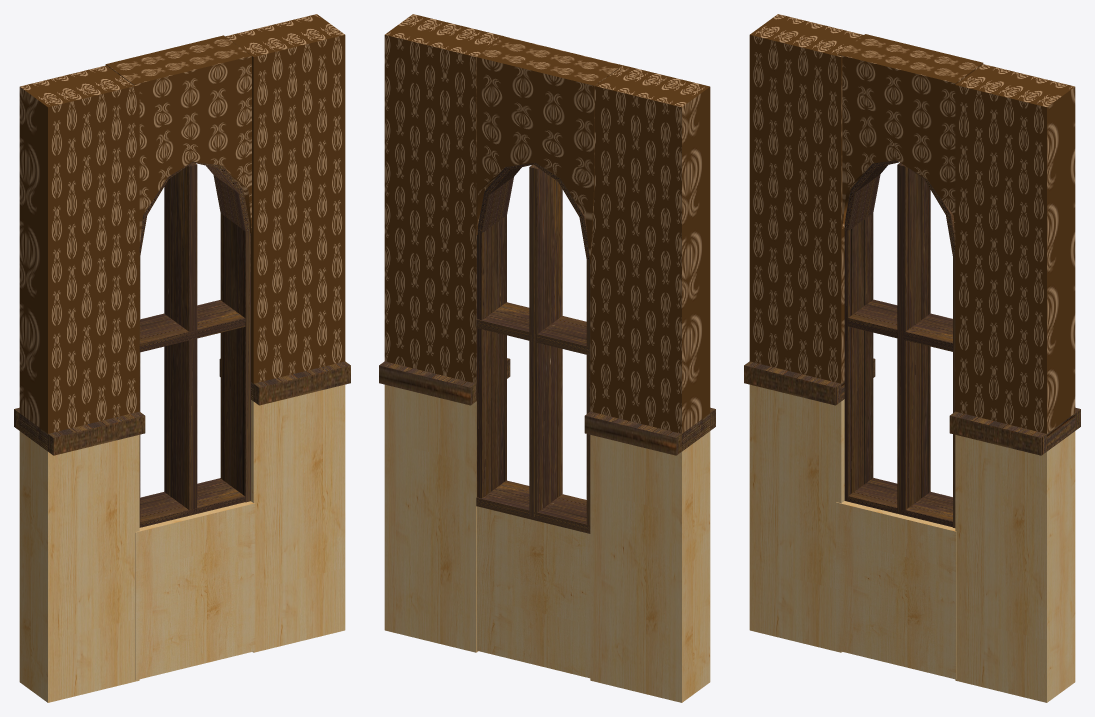
The model's file is Office Window.fbx.
3 renders of one model, left to right at view 1: azimuth 30°, elevation 25°; view 2: azimuth 150°, elevation 25°; view 3: azimuth 330°, elevation 25°, orthographic.
Parts seen in each view (by area): view 1: pCube15; view 2: pCube15; view 3: pCube15.
Part boxes in pixels (bbox=[...]): pCube15: bbox=[14, 14, 350, 702]; pCube15: bbox=[379, 14, 715, 702]; pCube15: bbox=[744, 14, 1080, 702].
Size of the model in its own units: 25.2 by 48.3 by 5.8.
Materials: 2 (2 with a texture image).
